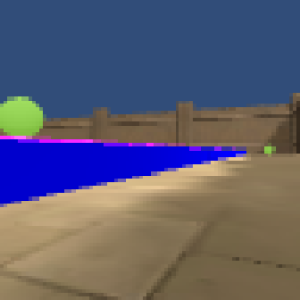goodGoal: (1, 94, 44, 136), (262, 143, 279, 156)
platform: (1, 146, 231, 200)
ramp: (1, 132, 116, 148)
